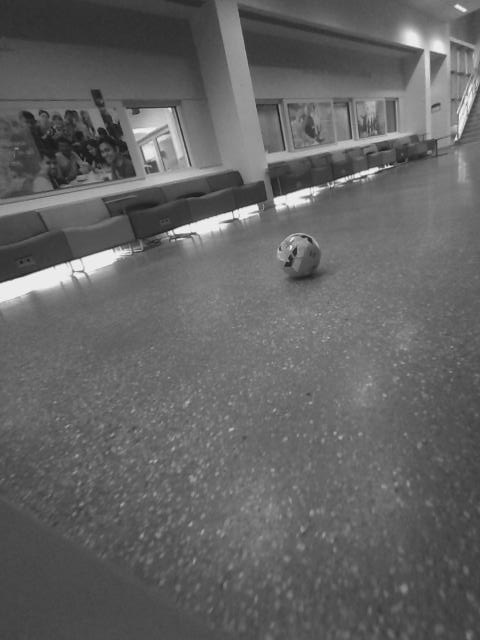ball: (263, 227, 328, 288)
